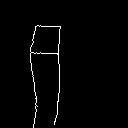cube: (16, 20, 73, 88)
